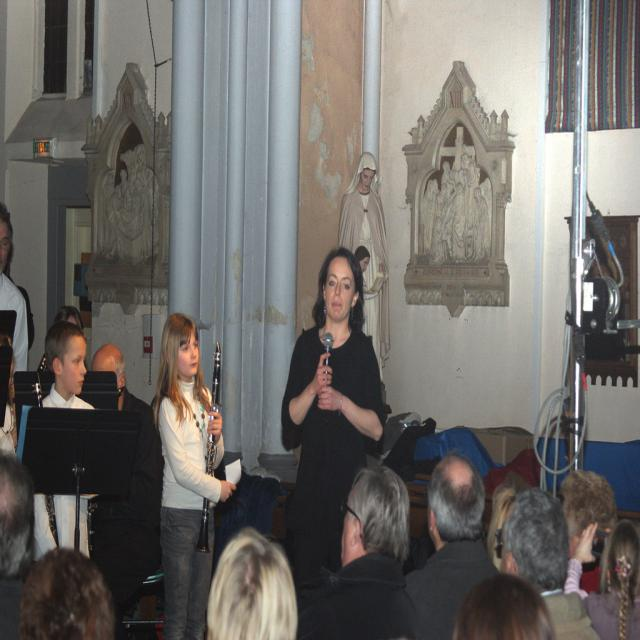clarinet: (193, 341, 230, 553), (28, 373, 64, 551)
